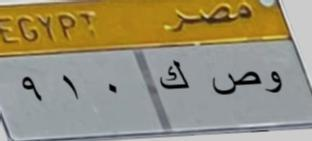0: (104, 80, 120, 102)
1: (59, 72, 81, 102)
9: (17, 72, 43, 108)
kaaf: (155, 57, 190, 97)
saad: (210, 69, 262, 103)
waw: (265, 68, 283, 100)
